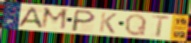A: (16, 6, 44, 29)
K: (98, 11, 119, 35)
M: (39, 6, 70, 32)
P: (69, 9, 97, 33)
Q: (123, 13, 148, 37)
T: (151, 15, 171, 38)
